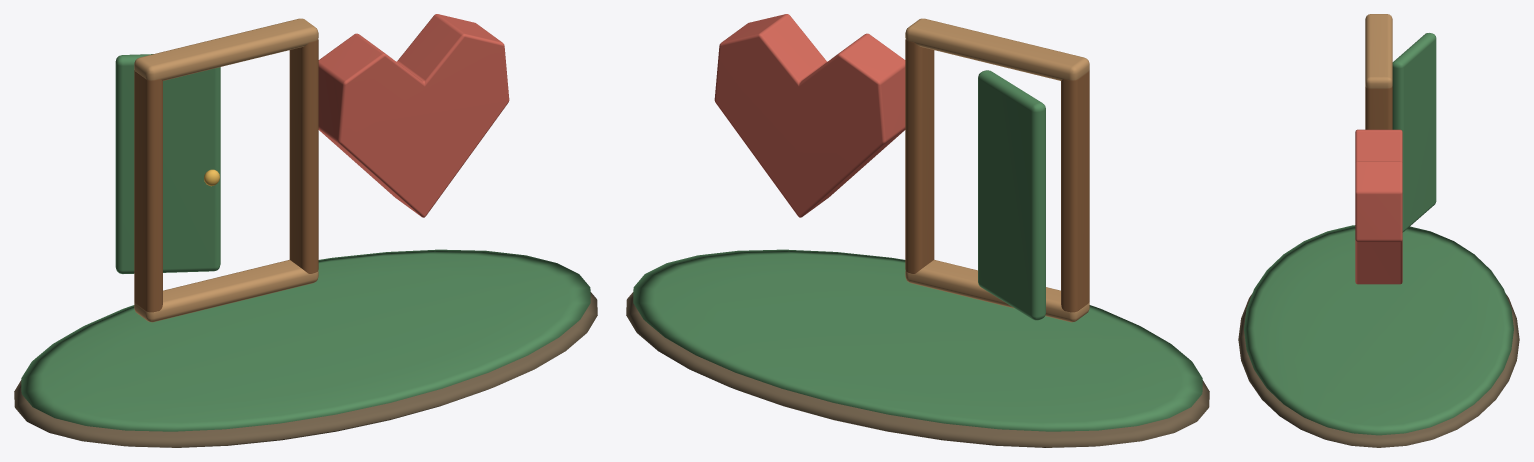
The model's file is open-heart.glb.
3 views of the same model, side by side, from view 1: azimuth 30°, elevation 25°; view 2: azimuth 150°, elevation 25°; view 3: azimuth 270°, elevation 25° (orthographic). The views are drawn at different scales.
Parts seen in each view (by area): view 1: open-heart_surface_01, open-heart_surface_05, open-heart_surface_02, open-heart_surface_00, open-heart_surface_03; view 2: open-heart_surface_01, open-heart_surface_05, open-heart_surface_02, open-heart_surface_00, open-heart_surface_03; view 3: open-heart_surface_01, open-heart_surface_05, open-heart_surface_00, open-heart_surface_03, open-heart_surface_02.
Part boxes in pixels (x1,y1,x2,y2): open-heart_surface_01: [21, 54, 590, 431]; open-heart_surface_05: [318, 14, 509, 217]; open-heart_surface_02: [134, 39, 318, 312]; open-heart_surface_00: [14, 292, 597, 447]; open-heart_surface_03: [134, 18, 318, 322]; open-heart_surface_01: [633, 70, 1202, 431]; open-heart_surface_05: [714, 14, 905, 217]; open-heart_surface_02: [905, 39, 1089, 312]; open-heart_surface_00: [626, 292, 1209, 447]; open-heart_surface_03: [905, 18, 1089, 322]; open-heart_surface_01: [1244, 33, 1513, 435]; open-heart_surface_05: [1355, 129, 1402, 284]; open-heart_surface_00: [1238, 293, 1519, 447]; open-heart_surface_03: [1365, 14, 1392, 88]; open-heart_surface_02: [1365, 86, 1392, 129].
Bounding box in the file's own units: 4.56 × 2.71 × 2.5.
